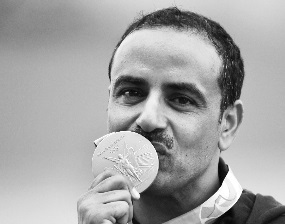face: (106, 38, 223, 188)
